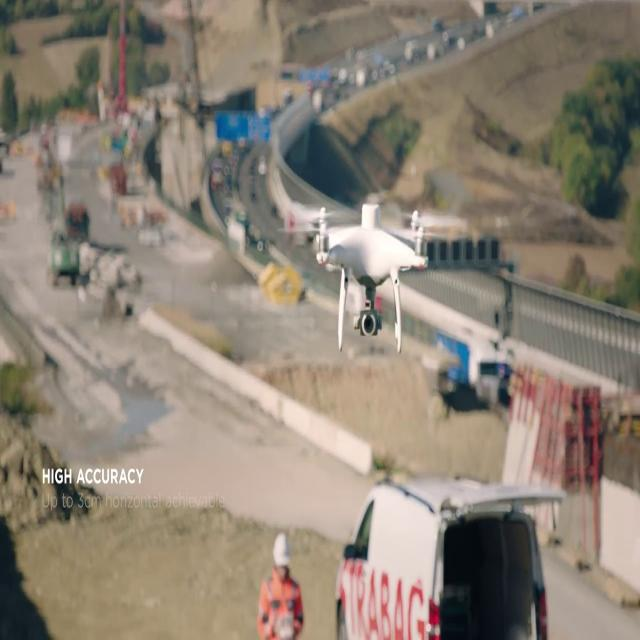drone: (284, 197, 468, 353)
